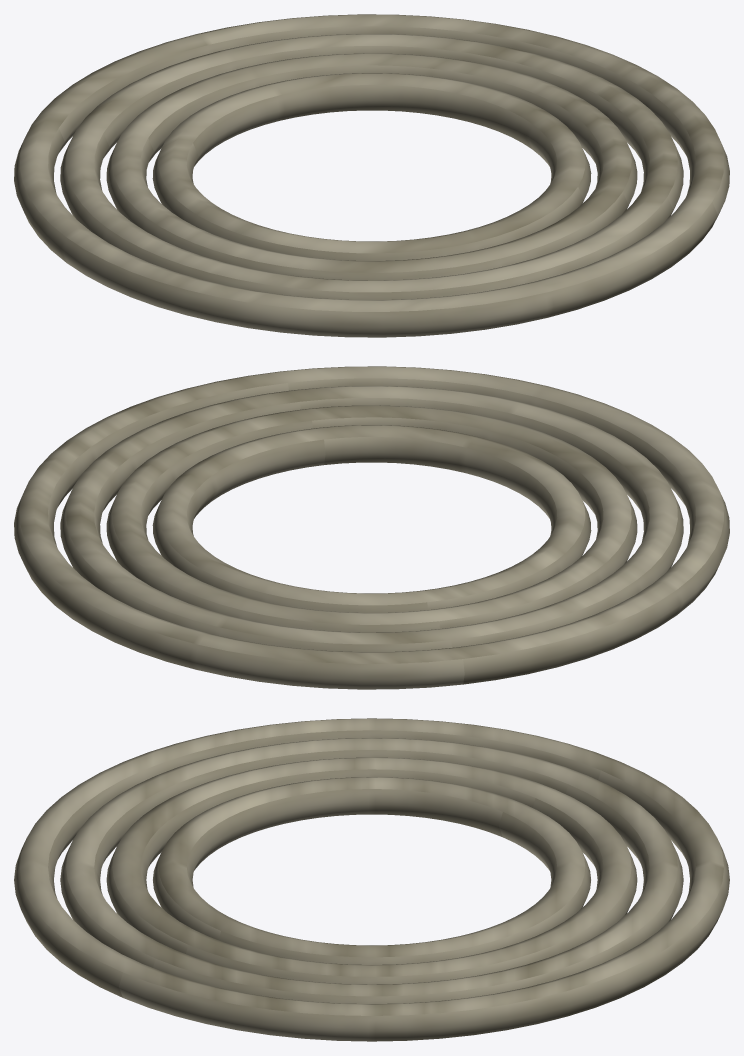
The model's file is Rope_Coil.glb.
The picture shows the model from 3 angles, top to bottom: view 1: azimuth 30°, elevation 25°; view 2: azimuth 150°, elevation 25°; view 3: azimuth 270°, elevation 25°; orthographic projection.
Parts seen in each view (by area): view 1: Rope_Coil; view 2: Rope_Coil; view 3: Rope_Coil.
Boxes of the visible parts, x1,y1,x2,y2 form: Rope_Coil: [14, 14, 729, 337]; Rope_Coil: [14, 366, 729, 689]; Rope_Coil: [14, 718, 729, 1041].
Bounding box in the file's own units: 1.01 × 0.056 × 1.01.
Materials: 1 (1 with a texture image).
